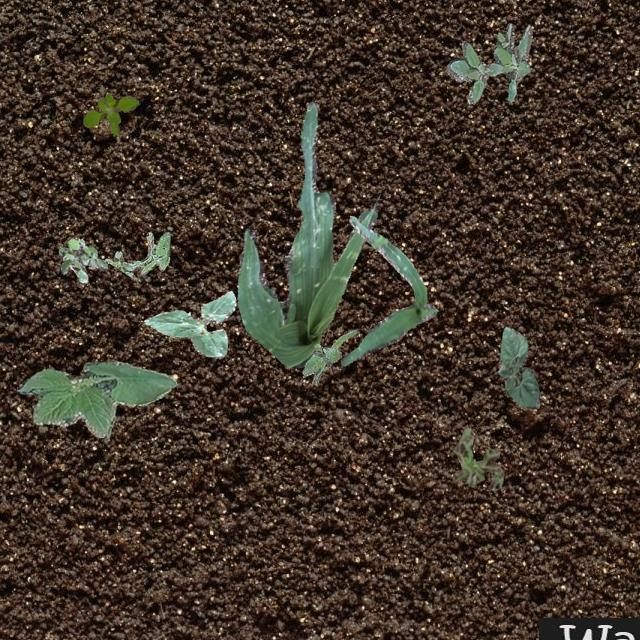crop: (236, 100, 376, 367), (339, 214, 436, 364), (17, 361, 176, 436), (143, 290, 235, 358), (496, 326, 538, 408)
weed: (446, 22, 532, 104), (452, 426, 502, 492), (104, 230, 170, 278), (302, 328, 356, 384), (81, 92, 138, 134), (57, 238, 106, 282)
